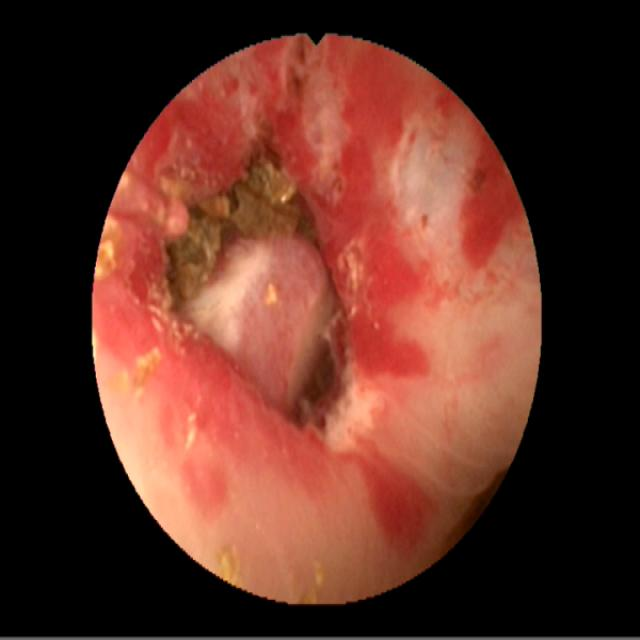stone: (167, 157, 299, 306), (109, 347, 161, 397), (266, 282, 281, 304)
